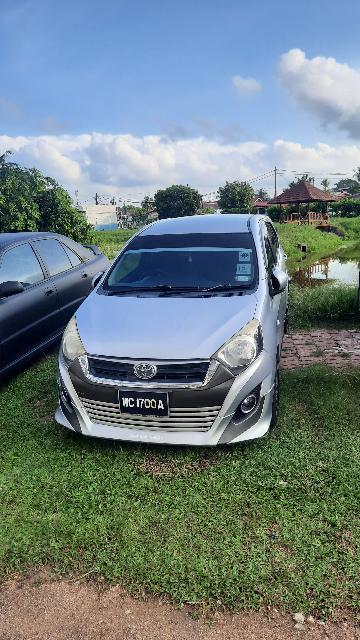License_Plate: (110, 387, 174, 419)
car: (52, 207, 286, 453)
